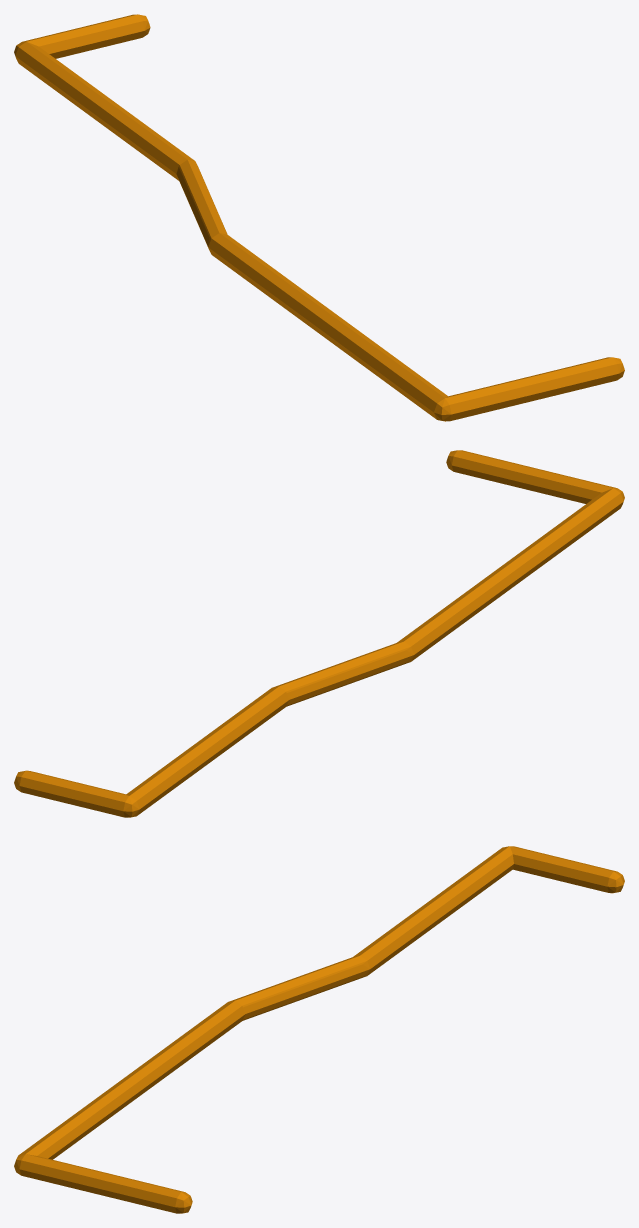
The picture shows the model from 3 angles, top to bottom: view 1: azimuth 30°, elevation 25°; view 2: azimuth 150°, elevation 25°; view 3: azimuth 330°, elevation 25°; orthographic projection. The views are drawn at different scales.
Bounding box in the file's own units: 170 × 20 × 749.
